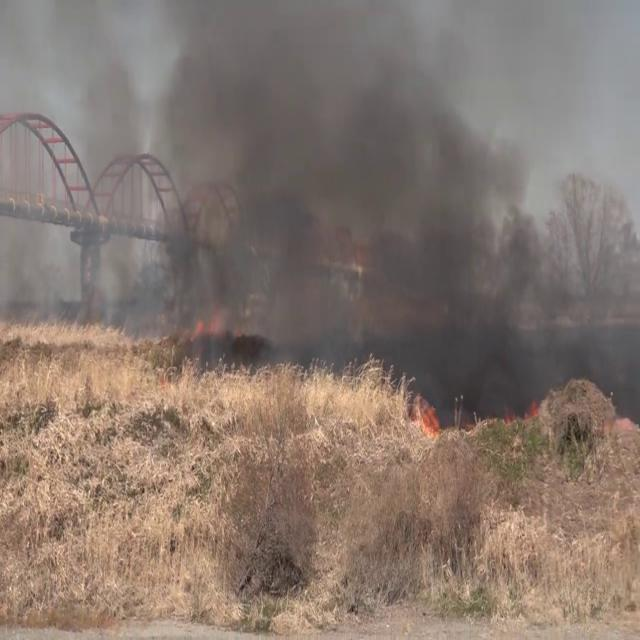Smoke: (0, 3, 630, 419)
